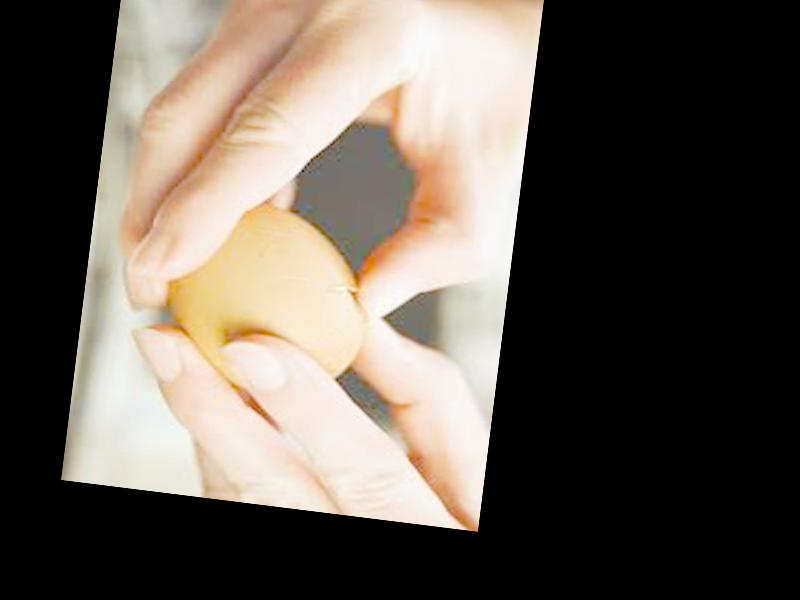Eggs: (153, 194, 380, 403)
